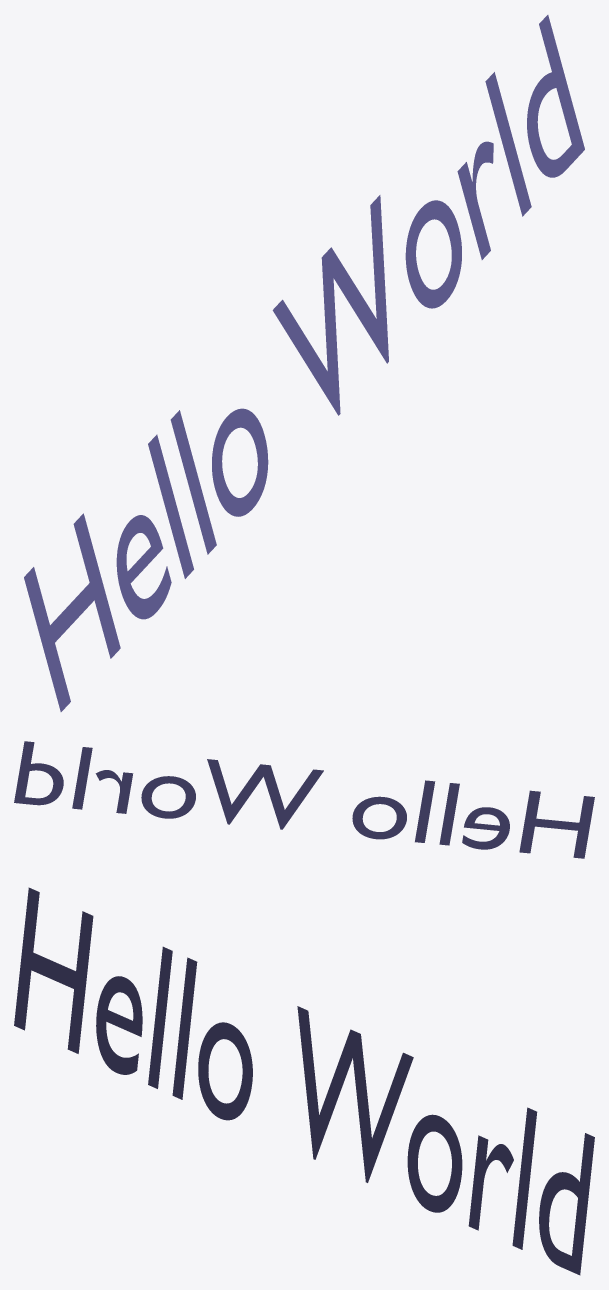
3 renders of one model, top to bottom at view 1: azimuth 30°, elevation 25°; view 2: azimuth 150°, elevation 25°; view 3: azimuth 270°, elevation 25°, orthographic. The views are drawn at different scales.
Visible parts, largest first — view 1: Text; view 2: Text; view 3: Text.
Part boxes in pixels (x1,y1,x2,y2): Text: [24, 15, 584, 711]; Text: [14, 741, 594, 858]; Text: [14, 887, 594, 1275].
Size of the model in its own units: 5 by 1.5 by 3.18.
